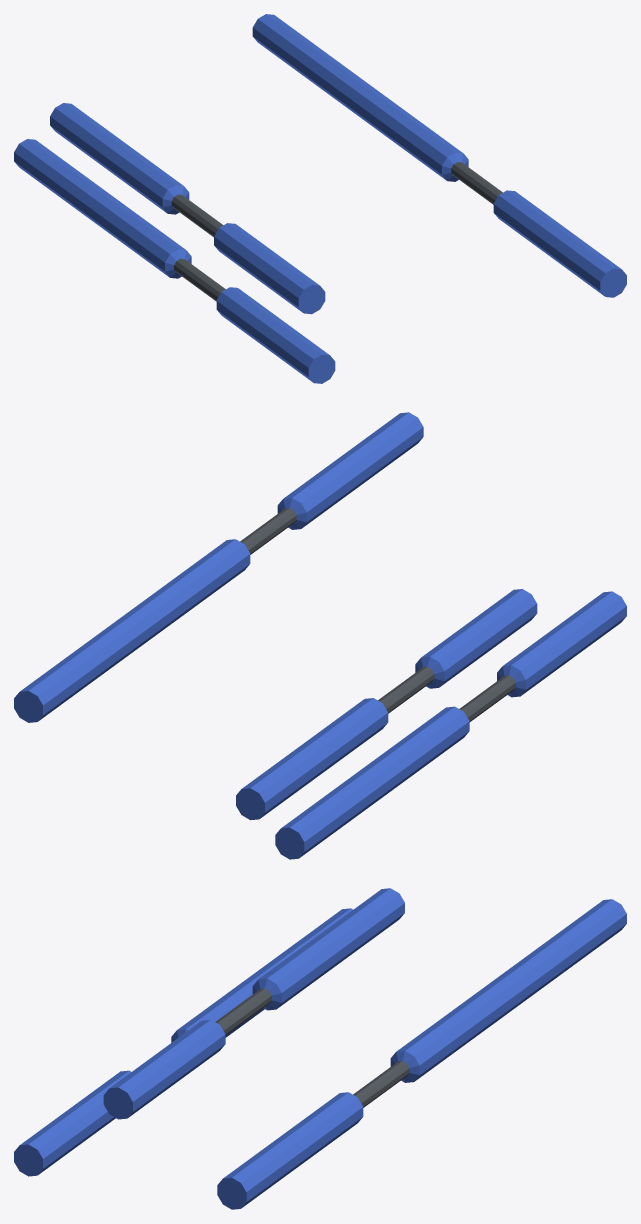
Rendered from Mothership_01_Antenna_Blue.fbx.
The picture shows the model from 3 angles, top to bottom: view 1: azimuth 30°, elevation 25°; view 2: azimuth 150°, elevation 25°; view 3: azimuth 330°, elevation 25°; orthographic projection. The views are drawn at different scales.
Visible parts, largest first — view 1: Mothership_01_Antenna_Blue; view 2: Mothership_01_Antenna_Blue; view 3: Mothership_01_Antenna_Blue.
Part boxes in pixels (x1,y1,x2,y2): Mothership_01_Antenna_Blue: (14, 14, 626, 383); Mothership_01_Antenna_Blue: (14, 412, 626, 859); Mothership_01_Antenna_Blue: (14, 888, 626, 1209).
Size of the model in its own units: 649 by 224 by 1473.
Materials: 1 (1 with a texture image).
